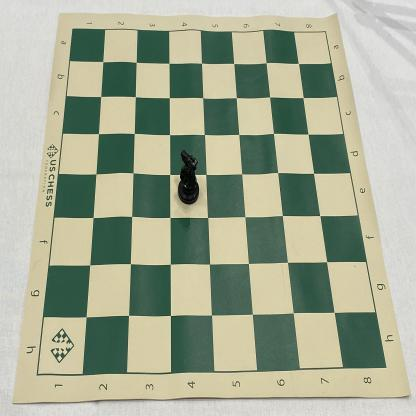knight: (177, 150, 200, 206)
